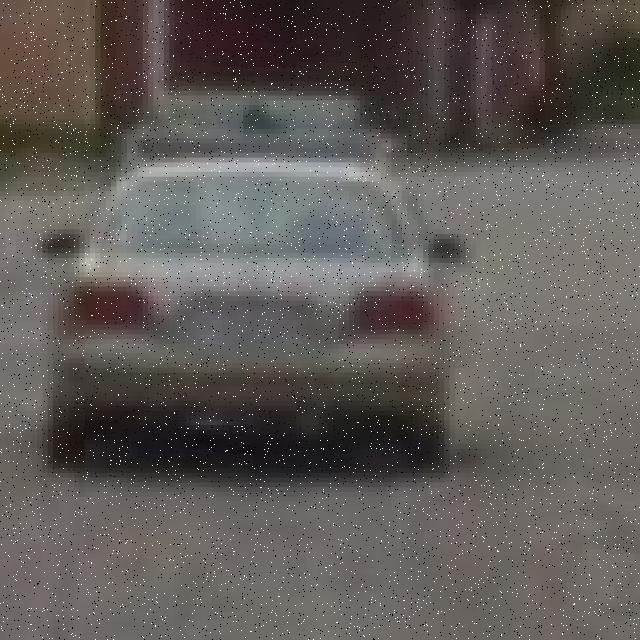cars: (22, 160, 482, 466)
